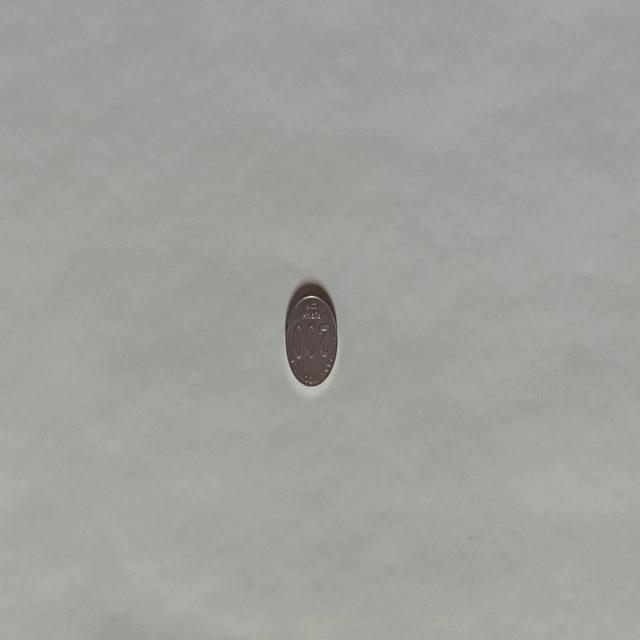dua ratus rupiah: (284, 288, 338, 388)
